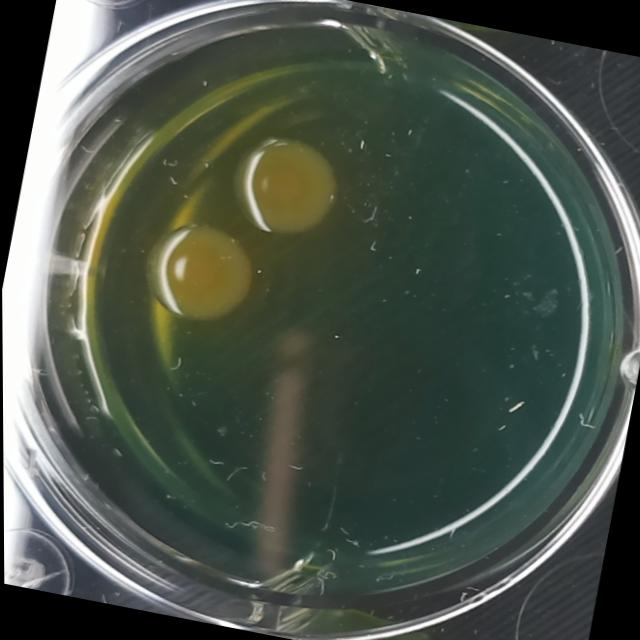vibrio: (219, 111, 364, 247), (127, 211, 270, 333)
